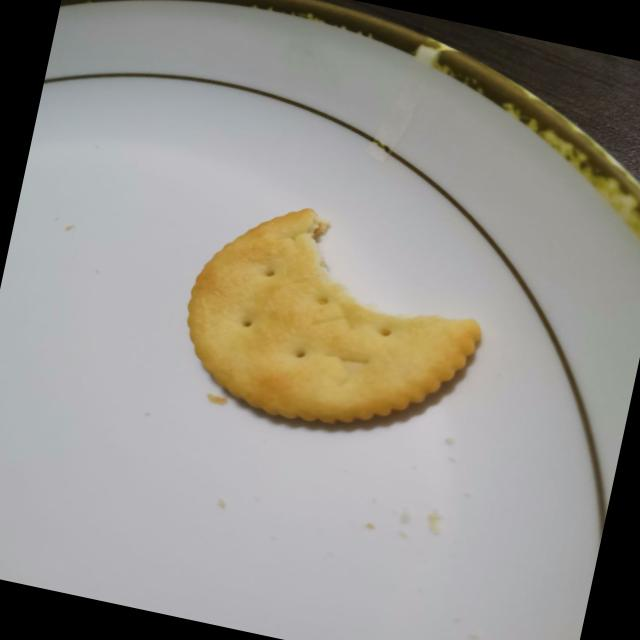broken biscuit: (166, 185, 501, 456)
